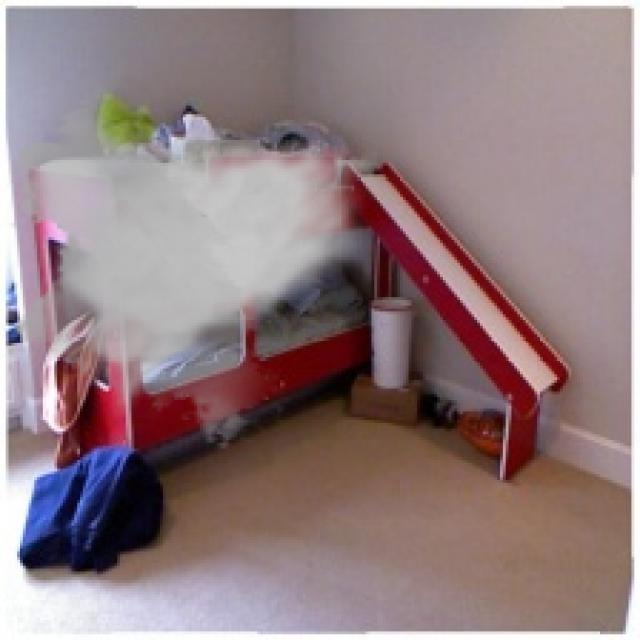smoke: (6, 97, 377, 452)
